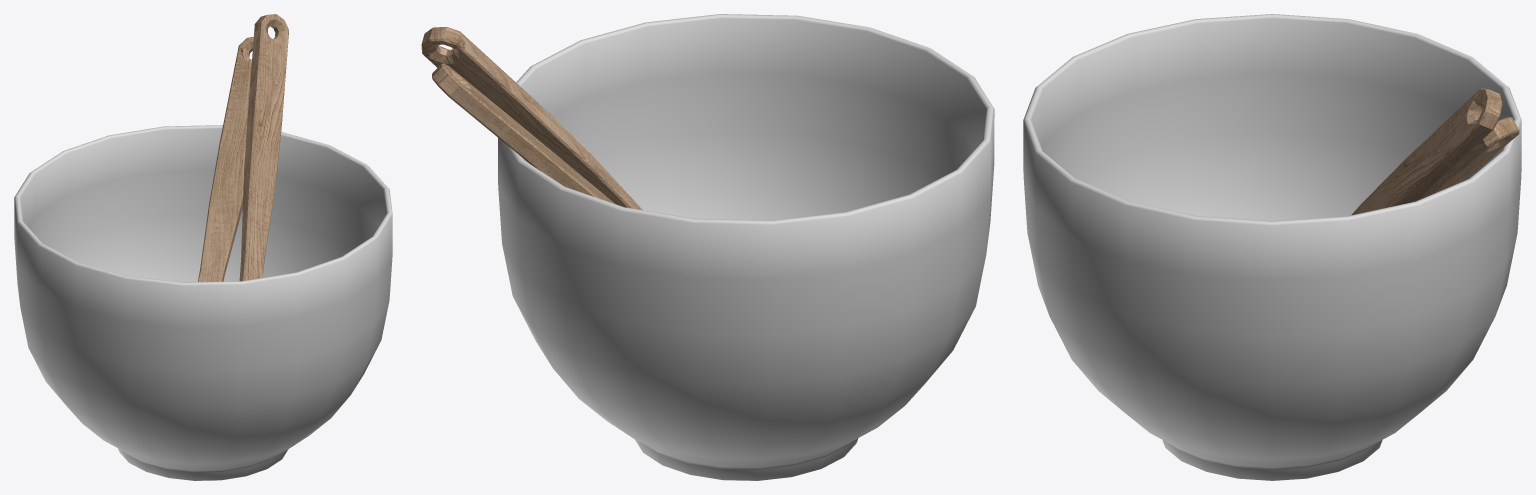
Rendered from etc_04.obj.
The picture shows the model from 3 angles, left to right: view 1: azimuth 30°, elevation 25°; view 2: azimuth 150°, elevation 25°; view 3: azimuth 270°, elevation 25°; orthographic projection. The views are drawn at different scales.
Visible parts, largest first — view 1: Mesh1 AM134_14_bowl_01 Model, Mesh2 AM134_14_wooden_spoon_03 Model, Mesh3 AM134_14_wooden_spoon_02 Model; view 2: Mesh1 AM134_14_bowl_01 Model, Mesh2 AM134_14_wooden_spoon_03 Model, Mesh3 AM134_14_wooden_spoon_02 Model; view 3: Mesh1 AM134_14_bowl_01 Model, Mesh2 AM134_14_wooden_spoon_03 Model, Mesh3 AM134_14_wooden_spoon_02 Model.
Boxes of the visible parts, left/top/right/bottom form: Mesh1 AM134_14_bowl_01 Model: left=14, top=125, right=392, bottom=480; Mesh2 AM134_14_wooden_spoon_03 Model: left=239, top=14, right=288, bottom=281; Mesh3 AM134_14_wooden_spoon_02 Model: left=198, top=36, right=253, bottom=281; Mesh1 AM134_14_bowl_01 Model: left=498, top=14, right=994, bottom=480; Mesh2 AM134_14_wooden_spoon_03 Model: left=421, top=27, right=642, bottom=210; Mesh3 AM134_14_wooden_spoon_02 Model: left=432, top=63, right=614, bottom=203; Mesh1 AM134_14_bowl_01 Model: left=1023, top=14, right=1521, bottom=480; Mesh2 AM134_14_wooden_spoon_03 Model: left=1351, top=88, right=1502, bottom=215; Mesh3 AM134_14_wooden_spoon_02 Model: left=1418, top=117, right=1519, bottom=200.
Bounding box in the file's own units: 638 × 618 × 637.
2 materials, 1 textured.
